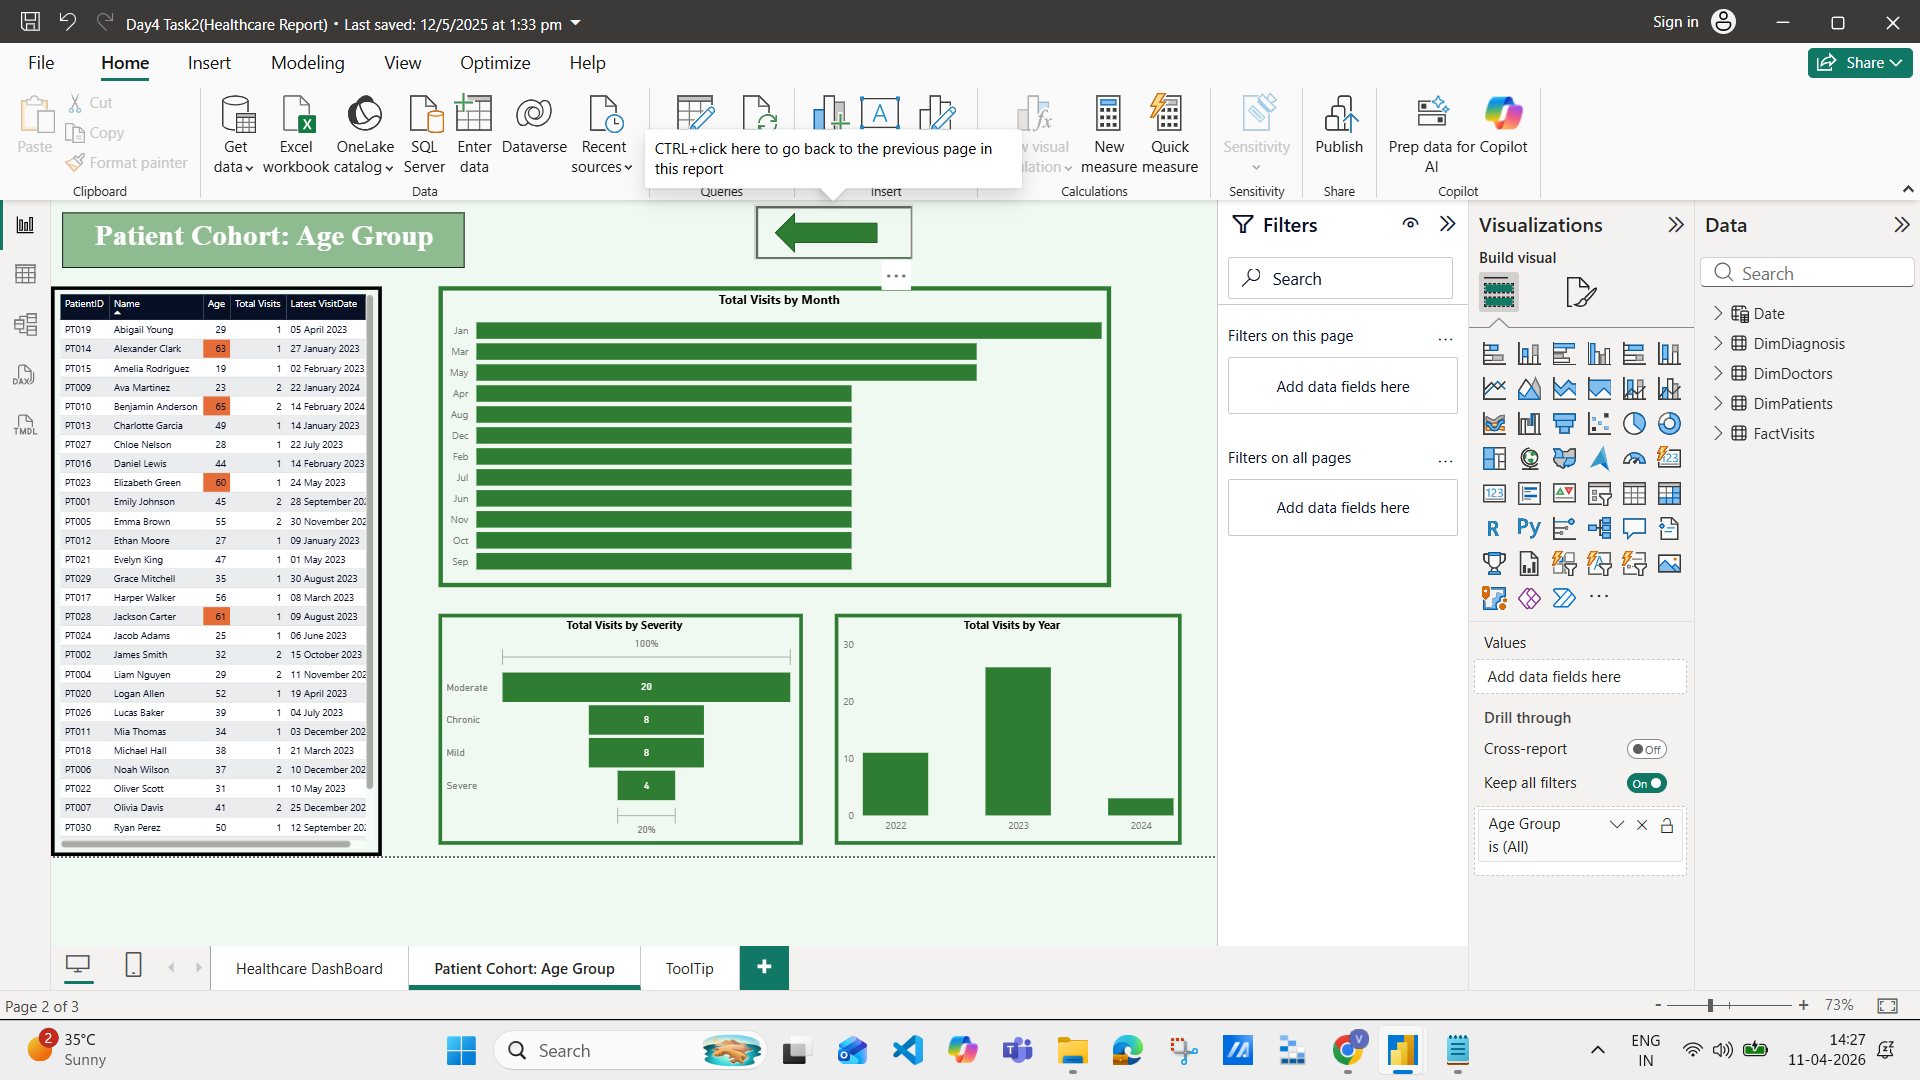

The page's visual inventory and layout, read from the dashboard file:
{"tool":"powerbi","page":{"name":"Patient Cohort: Age Group","canvas":[1280,720],"ordinal":1},"visuals":[{"type":"tableEx","fields":{"Values":["DimPatients.PatientID","DimPatients.Name","DimPatients.Age","FactVisits.Total Visits","FactVisits.VisitDate"]},"box":[0,94.9,363.3,625.8],"z":0},{"type":"barChart","fields":{"Y":["FactVisits.Total Visits"],"Category":["Date.Month"]},"box":[425.6,94.9,738.5,330.7],"z":1000},{"type":"columnChart","fields":{"Y":["FactVisits.Total Visits"],"Category":["Date.Date Hierarchy.Year","Date.Date Hierarchy.Quarter","Date.Date Hierarchy.Month","Date.Date Hierarchy.Day"]},"box":[860.1,453.8,381.1,253.6],"z":2000},{"type":"funnel","fields":{"Category":["DimDiagnosis.Severity"],"Y":["FactVisits.Total Visits"]},"box":[425.6,453.8,400.4,253.6],"z":3000},{"type":"textbox","box":[11.9,13.3,441.9,60.8],"z":4000},{"type":"shape","box":[794.8,13.3,112.7,44.5],"z":5000},{"type":"actionButton","box":[772.6,5.9,173.5,59.3],"z":6000}]}

Visuals, with their boxes on the page's 1280x720 design canvas (x1, y1, x2, y2). These are canvas units, not pixel positions in the 1920x1080 screenshot, which may show the page scaled, cropped or inside an application window:
tableEx - DimPatients.PatientID x DimPatients.Name: detection(0, 95, 363, 721)
barChart - FactVisits.Total Visits x Date.Month: detection(426, 95, 1164, 426)
columnChart - FactVisits.Total Visits x Date.Date Hierarchy.Year: detection(860, 454, 1241, 707)
funnel - DimDiagnosis.Severity x FactVisits.Total Visits: detection(426, 454, 826, 707)
textbox: detection(12, 13, 454, 74)
shape: detection(795, 13, 908, 58)
actionButton: detection(773, 6, 946, 65)
